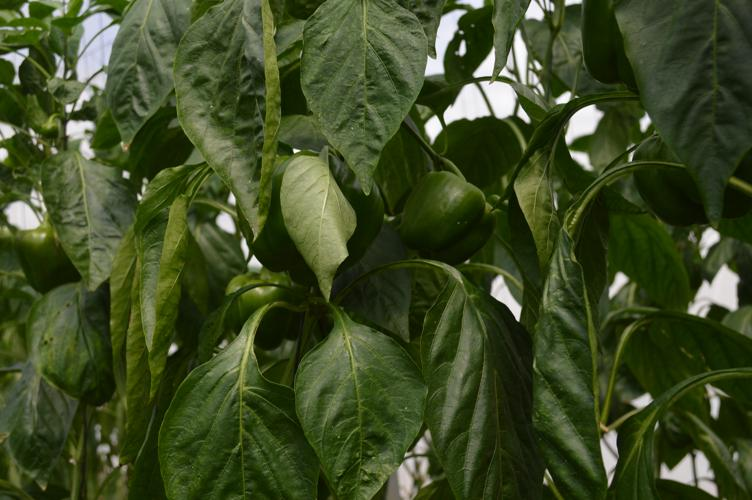BellPepper: (250, 152, 385, 277), (398, 172, 495, 268), (626, 141, 734, 226), (219, 275, 302, 344), (578, 5, 636, 95), (12, 229, 70, 288)
